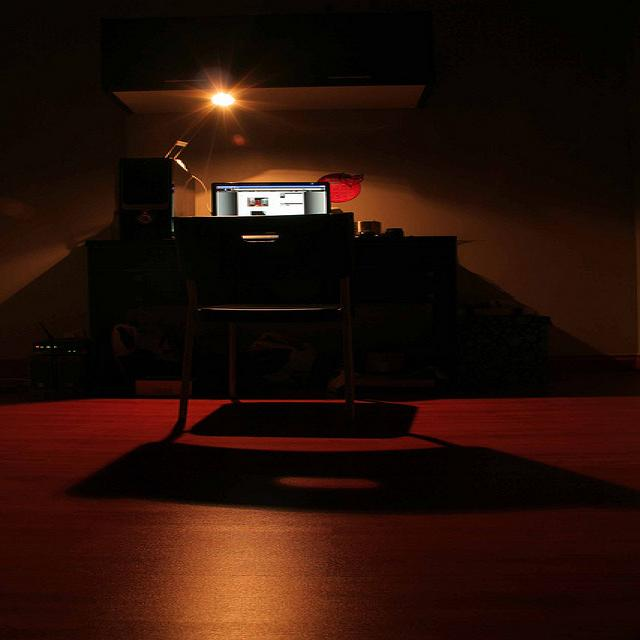Table: (50, 222, 553, 394)
chair: (152, 209, 381, 427)
